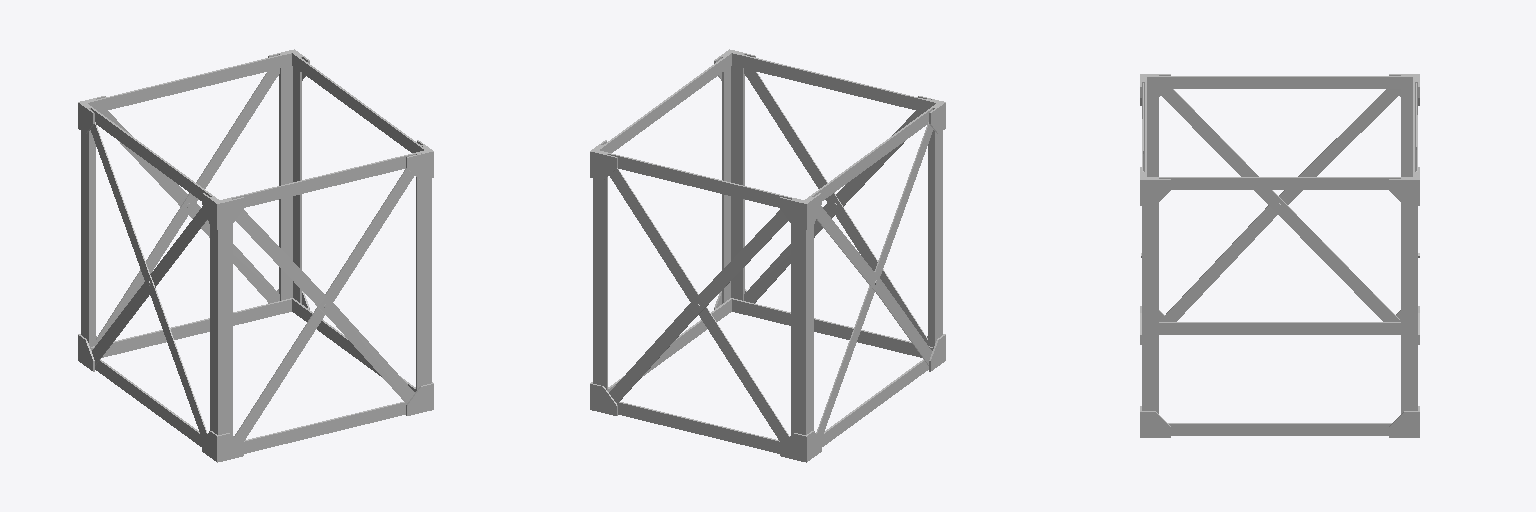
Rendered from elevatorShaftDoor.obj.
The picture shows the model from 3 angles: view 1: azimuth 30°, elevation 25°; view 2: azimuth 150°, elevation 25°; view 3: azimuth 270°, elevation 25°; orthographic projection.
Visible parts, largest first — view 1: elevatorShaft; view 2: elevatorShaft; view 3: elevatorShaft.
Part boxes in pixels (x1,y1,x2,y2): elevatorShaft: (78, 49, 433, 462); elevatorShaft: (590, 49, 945, 462); elevatorShaft: (1140, 74, 1419, 437).
Size of the model in its own units: 3.14 by 3.58 by 3.5.